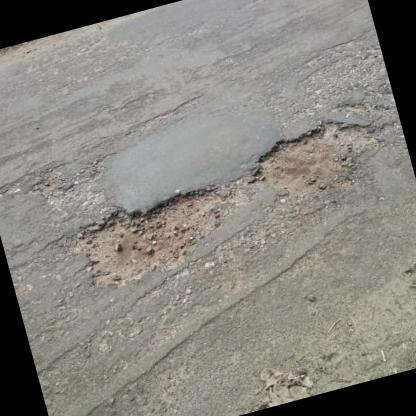pothole: (68, 175, 250, 295), (238, 105, 392, 209)
